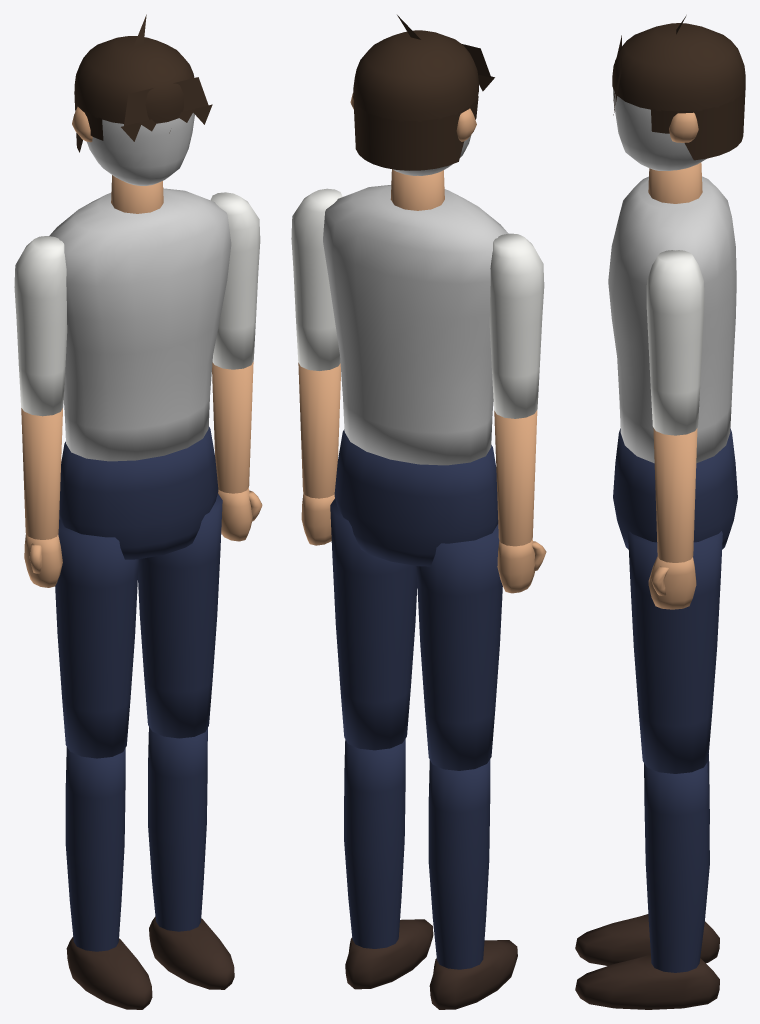
The model's file is kouta.glb.
The picture shows the model from 3 angles, left to right: view 1: azimuth 30°, elevation 25°; view 2: azimuth 150°, elevation 25°; view 3: azimuth 270°, elevation 25°; orthographic projection. The views are drawn at different scales.
Parts seen in each view (by area): view 1: torso, legR, head, shinR, shinL, legL, hips, armR, foreR, foreL, armL; view 2: torso, legR, head, legL, shinR, shinL, hips, armR, foreR, armL, foreL; view 3: torso, shinL, head, legL, armL, foreL, hips, shinR.
Boxes of the visible parts, left/top/right/bottom form: torso: left=49, top=175, right=231, bottom=461; legR: left=55, top=518, right=138, bottom=758; head: left=72, top=14, right=212, bottom=185; shinR: left=65, top=747, right=152, bottom=1009; shinL: left=148, top=727, right=234, bottom=989; legL: left=138, top=493, right=222, bottom=738; hips: left=59, top=426, right=218, bottom=559; armR: left=14, top=236, right=67, bottom=416; foreR: left=21, top=408, right=62, bottom=587; foreL: left=212, top=361, right=262, bottom=541; armL: left=210, top=192, right=260, bottom=369; torso: left=323, top=169, right=508, bottom=465; legR: left=416, top=524, right=502, bottom=770; head: left=350, top=15, right=494, bottom=175; legL: left=330, top=498, right=417, bottom=750; shinR: left=428, top=759, right=517, bottom=1009; shinL: left=344, top=739, right=433, bottom=989; hips: left=334, top=429, right=498, bottom=566; armR: left=489, top=233, right=544, bottom=418; foreR: left=494, top=410, right=546, bottom=593; armL: left=291, top=188, right=342, bottom=370; foreL: left=298, top=362, right=340, bottom=545; torso: left=608, top=162, right=736, bottom=463; shinL: left=575, top=763, right=719, bottom=1009; head: left=612, top=15, right=745, bottom=170; legL: left=628, top=531, right=722, bottom=773; armL: left=646, top=250, right=704, bottom=435; foreL: left=648, top=428, right=697, bottom=609; hips: left=613, top=428, right=737, bottom=549; shinR: left=575, top=754, right=719, bottom=965.
Size of the model in its own units: 0.4893 by 1.85 by 0.2952.
